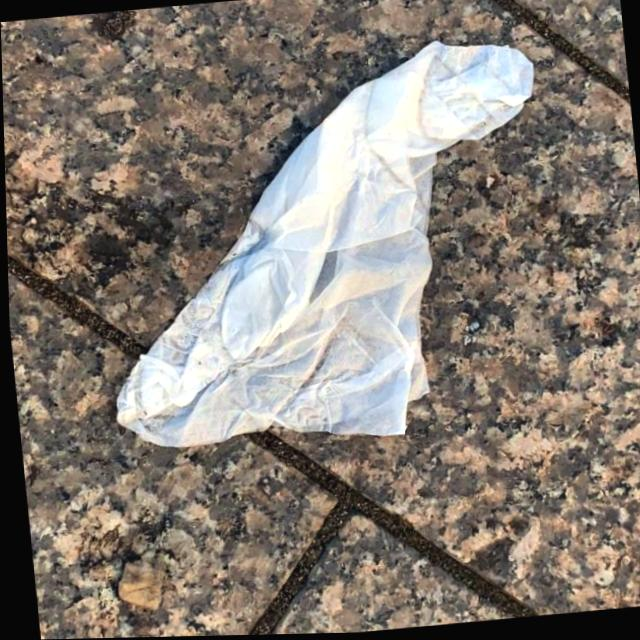Paper: (78, 31, 569, 466)
